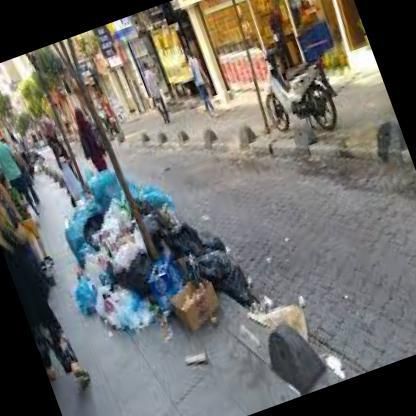Garbage: (140, 245, 226, 339), (84, 247, 168, 332), (174, 228, 248, 314), (64, 210, 134, 296), (136, 188, 198, 274), (81, 184, 144, 262), (86, 166, 134, 234)
